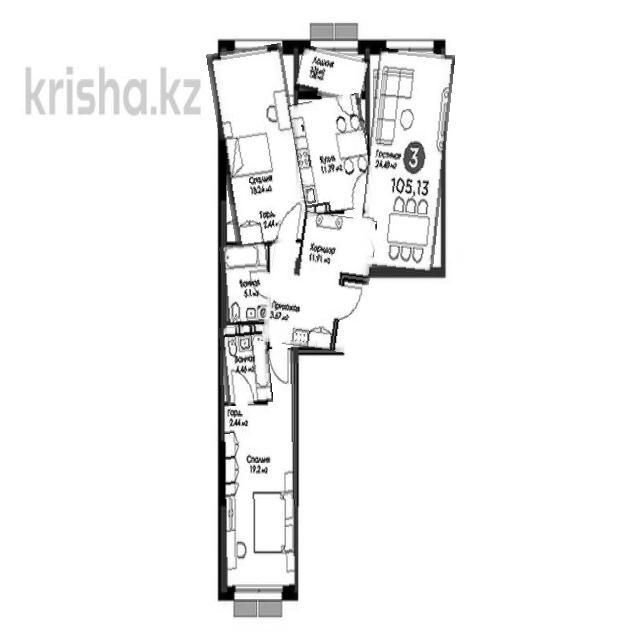balcony: (296, 47, 368, 102)
bathroom: (220, 324, 271, 405), (221, 244, 270, 324)
hallway: (261, 211, 377, 350)
kitchen: (292, 95, 374, 215)
living_room: (362, 49, 450, 274), (213, 45, 305, 248), (222, 348, 298, 592)
